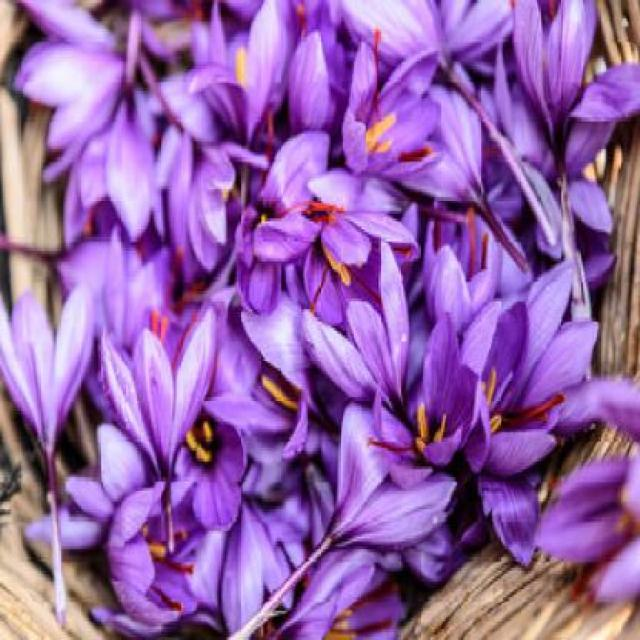Flower: (338, 367, 474, 547), (102, 320, 220, 495), (516, 0, 638, 162), (0, 284, 91, 468)
stigma: (402, 397, 451, 475), (284, 185, 351, 231), (362, 106, 404, 165), (178, 410, 212, 470)
